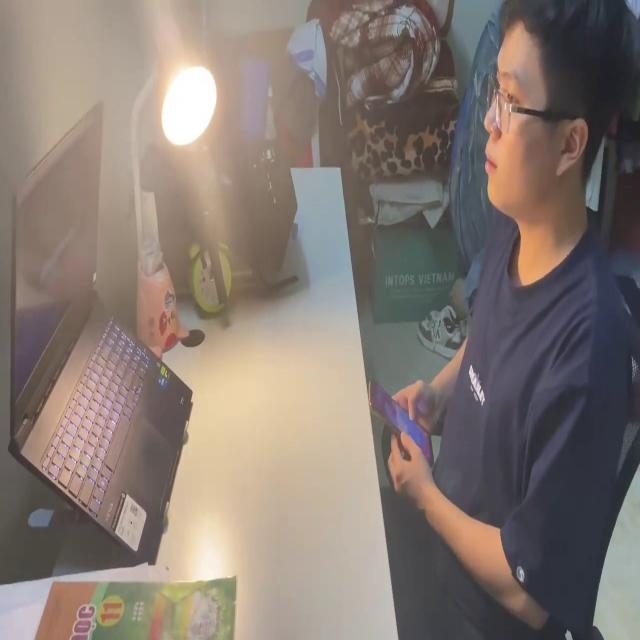book: (2, 564, 238, 640)
laptop: (6, 91, 192, 563)
phone: (366, 375, 436, 474)
student: (379, 0, 640, 640)
